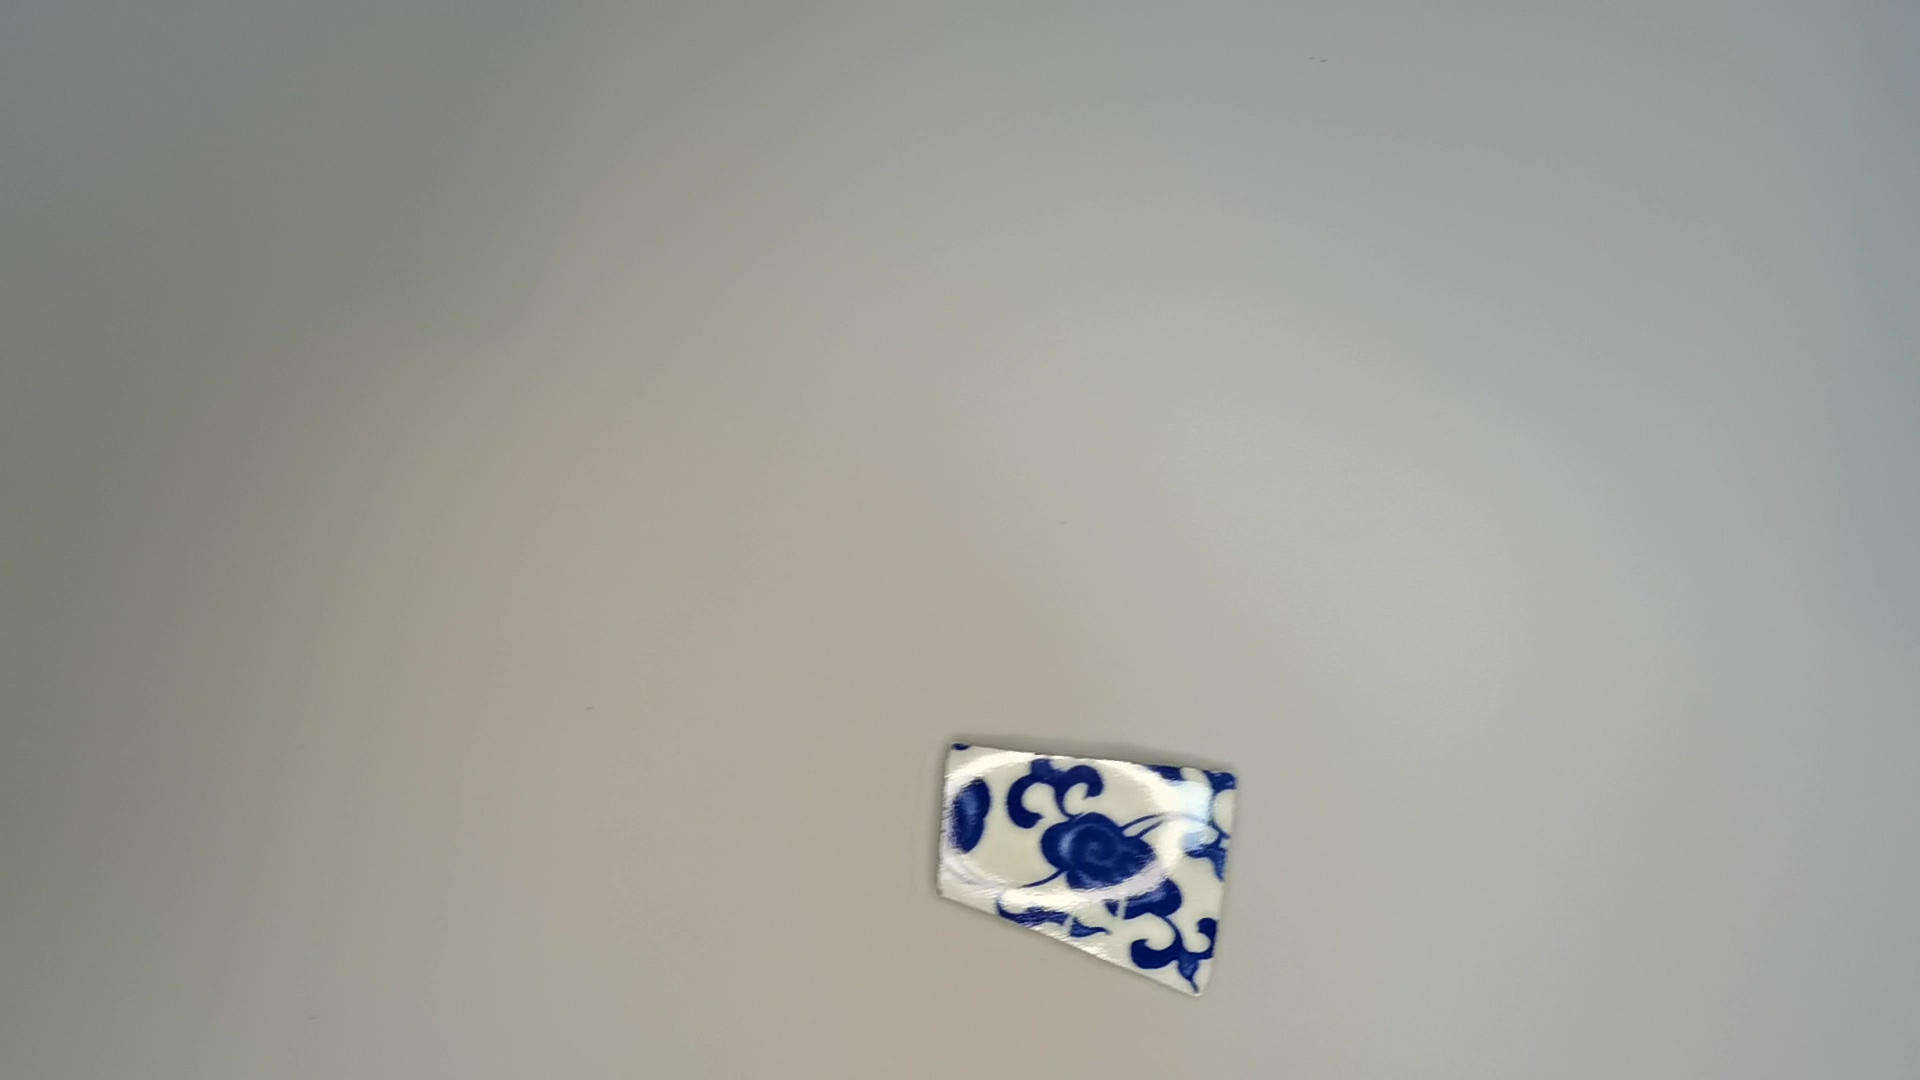ceramic: (928, 738, 1255, 997)
